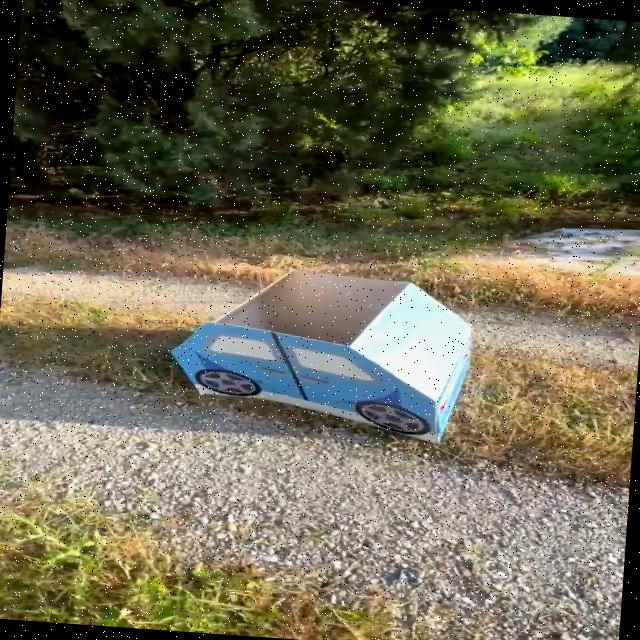blue_car: (149, 243, 516, 473)
